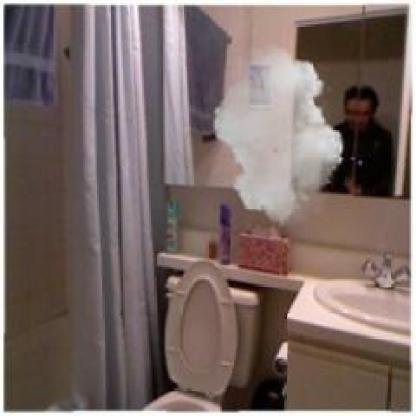Smoke: (207, 44, 349, 226)
